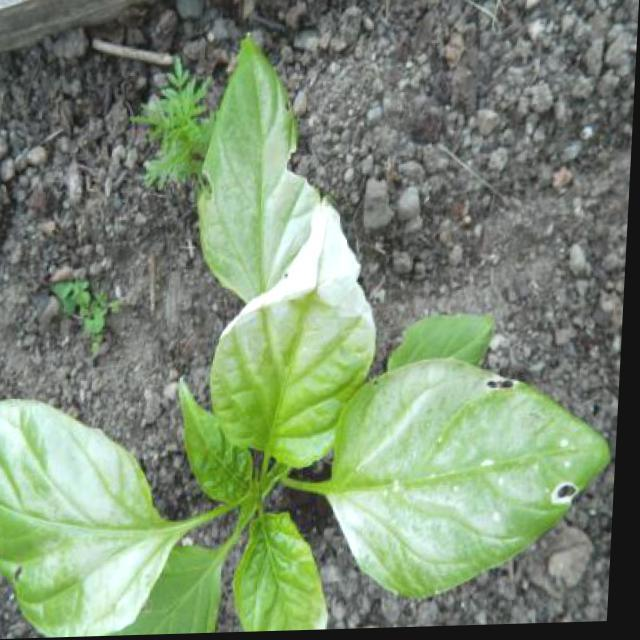Tomato bacterial spot leaf: (332, 358, 622, 614), (204, 212, 383, 481), (0, 393, 183, 639)
